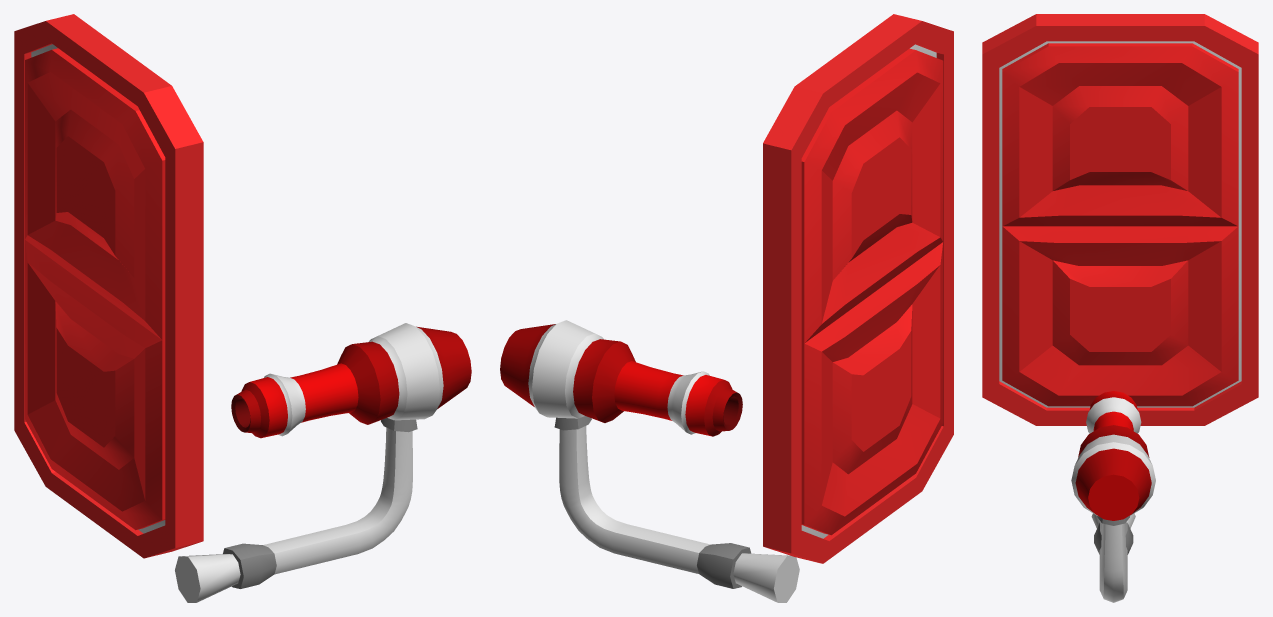
Rendered from flamethrower_obstacle (1).fbx.
3 renders of one model, left to right at view 1: azimuth 30°, elevation 25°; view 2: azimuth 150°, elevation 25°; view 3: azimuth 270°, elevation 25°, orthographic. The views are drawn at different scales.
Parts seen in each view (by area): view 1: irondoor_firethrower, flamethrower_obstacle; view 2: irondoor_firethrower, flamethrower_obstacle; view 3: irondoor_firethrower, flamethrower_obstacle.
Part boxes in pixels (left/top/right/bottom): irondoor_firethrower: left=14, top=14, right=203, bottom=558; flamethrower_obstacle: left=175, top=323, right=471, bottom=602; irondoor_firethrower: left=763, top=14, right=953, bottom=563; flamethrower_obstacle: left=500, top=320, right=799, bottom=602; irondoor_firethrower: left=982, top=14, right=1258, bottom=425; flamethrower_obstacle: left=1071, top=391, right=1155, bottom=602.
Size of the model in its own units: 125 by 185 by 95.33.
